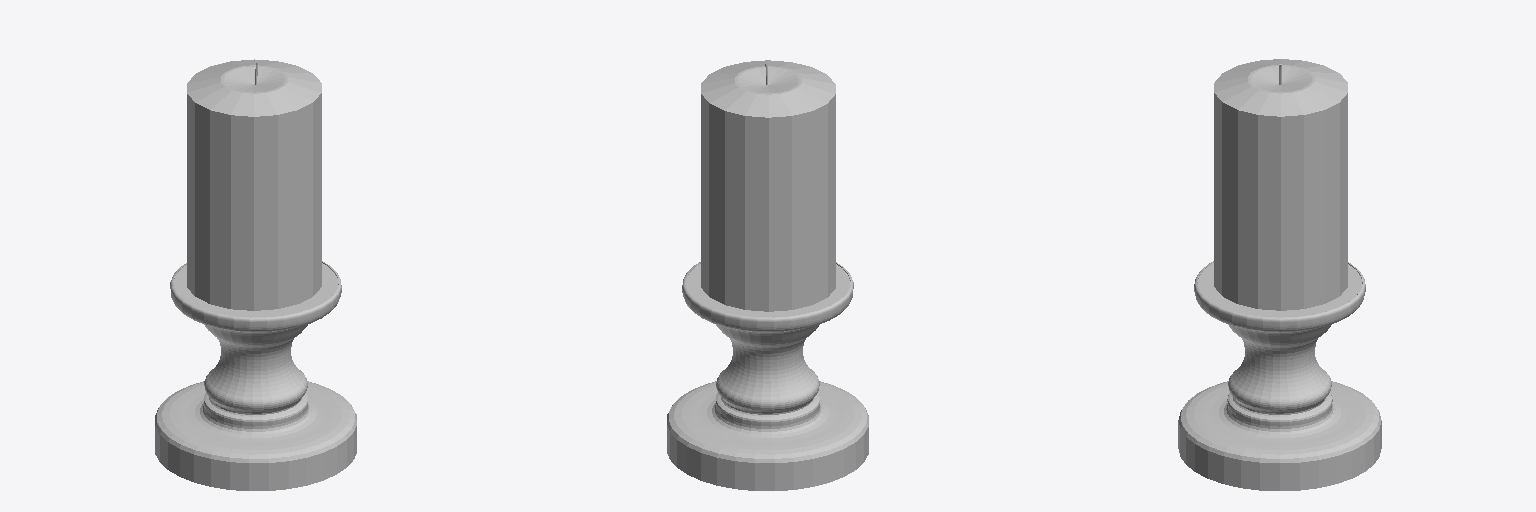
Rendered from candle.obj.
The picture shows the model from 3 angles: view 1: azimuth 30°, elevation 25°; view 2: azimuth 150°, elevation 25°; view 3: azimuth 270°, elevation 25°; orthographic projection.
Visible parts, largest first — view 1: Cylinder01 Group01, Group01 Line01; view 2: Cylinder01 Group01, Group01 Line01; view 3: Cylinder01 Group01, Group01 Line01.
Boxes of the visible parts, x1=… form: Cylinder01 Group01: x1=187, y1=59, x2=321, y2=310; Group01 Line01: x1=155, y1=261, x2=356, y2=490; Cylinder01 Group01: x1=701, y1=60, x2=835, y2=311; Group01 Line01: x1=667, y1=262, x2=868, y2=490; Cylinder01 Group01: x1=1214, y1=59, x2=1347, y2=310; Group01 Line01: x1=1178, y1=261, x2=1381, y2=490.
Size of the model in its own units: 0.15 by 0.3135 by 0.15.